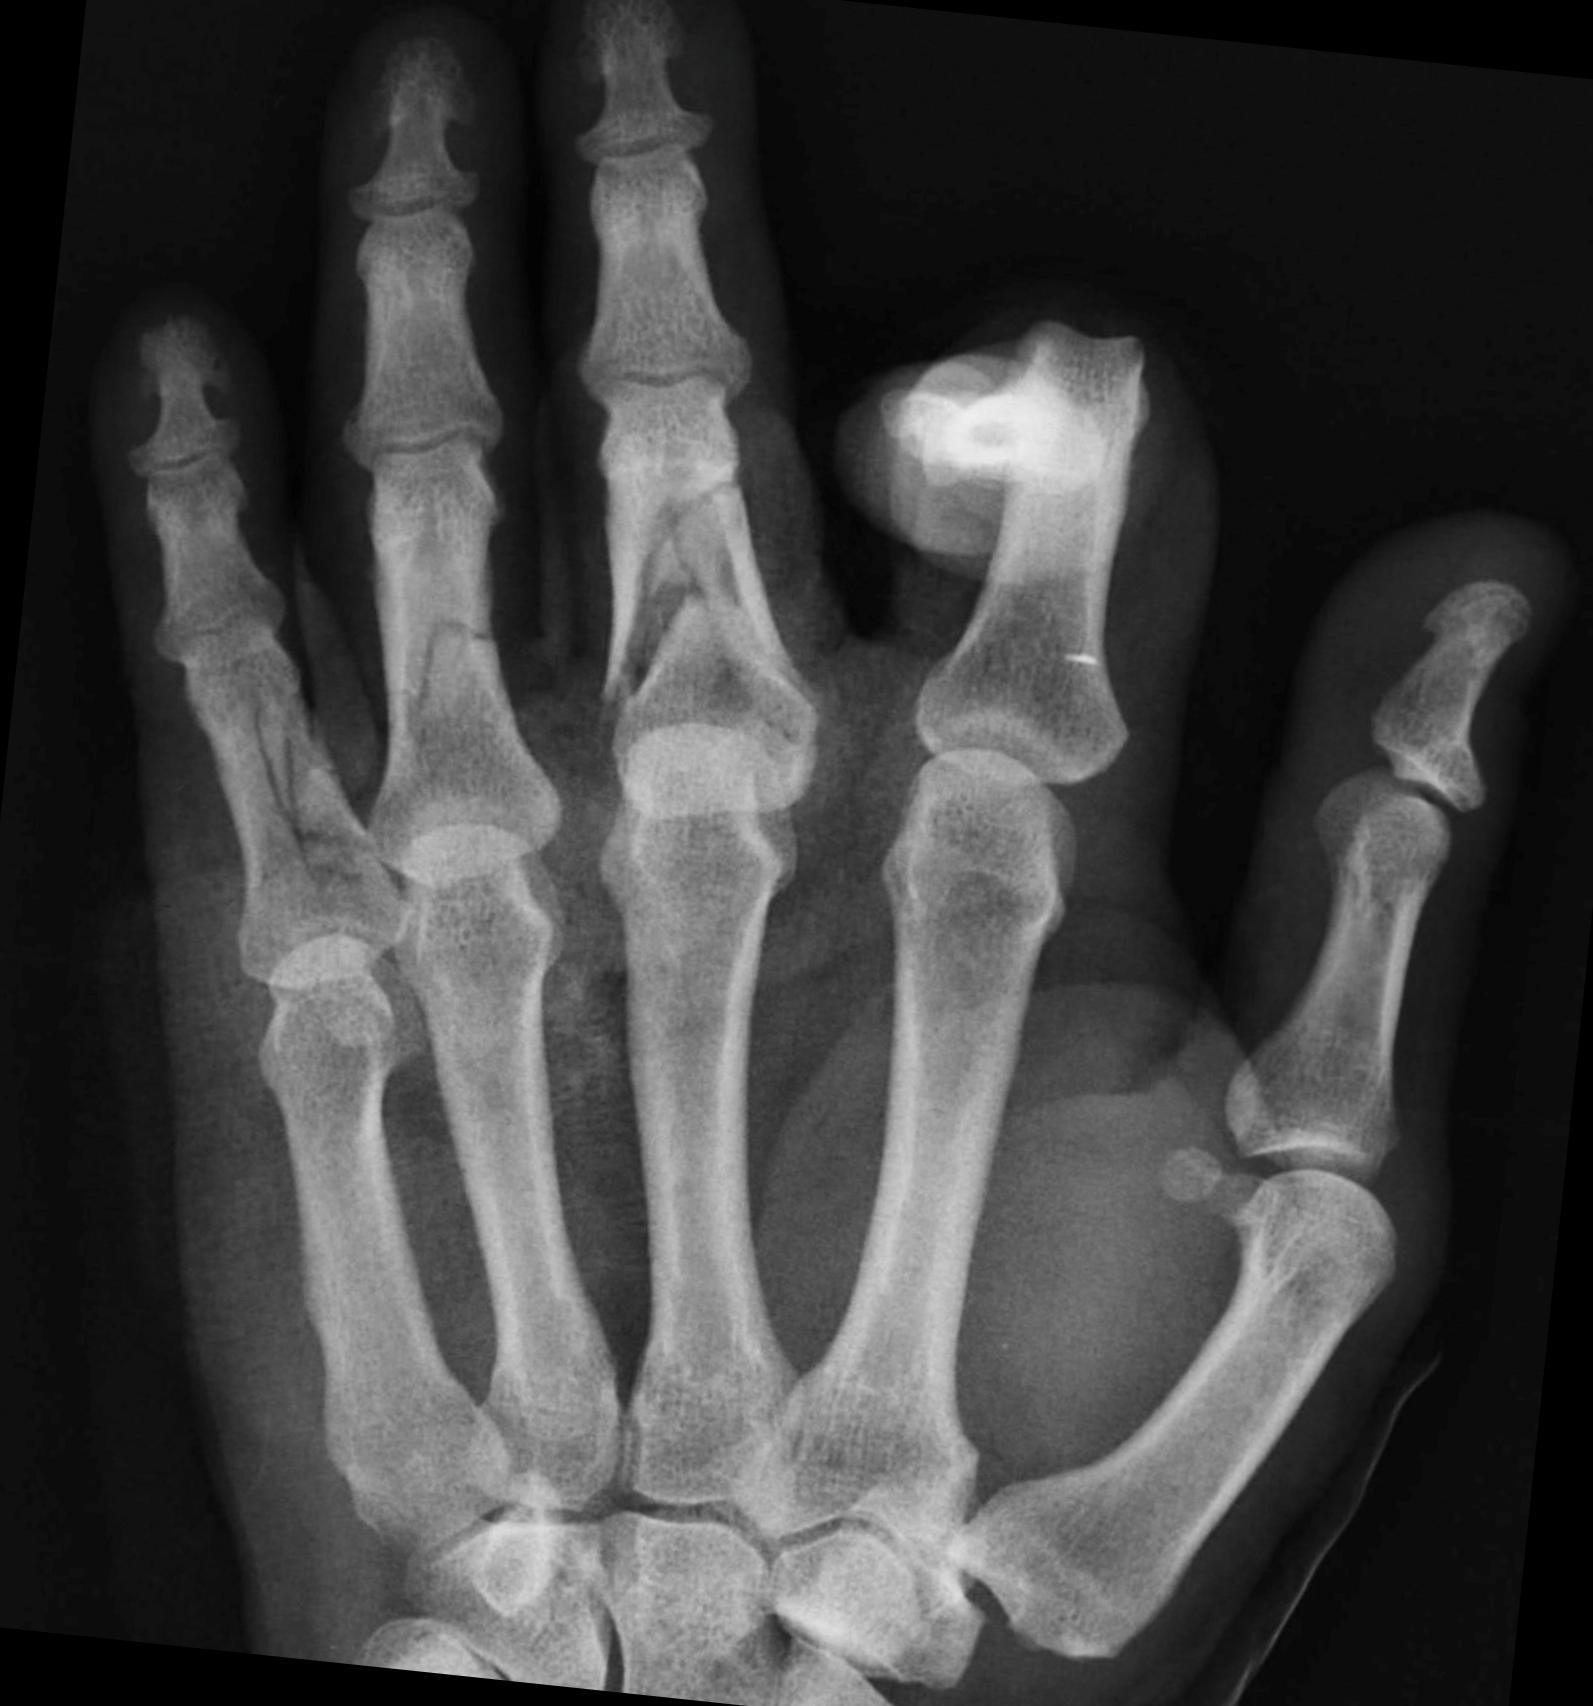fracture: (587, 443, 846, 750), (222, 694, 401, 898), (981, 310, 1145, 515), (376, 593, 505, 727), (606, 1411, 651, 1495)
